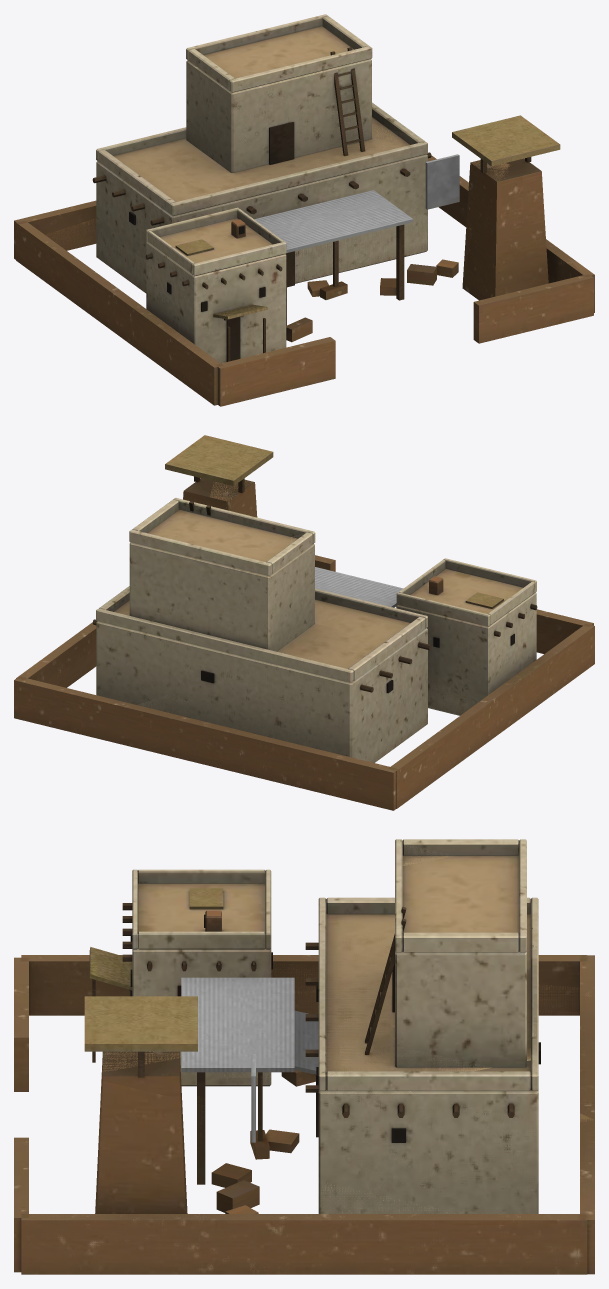
File: civic-bronze-f05076f5.glb
3 renders of one model, top to bottom at view 1: azimuth 30°, elevation 25°; view 2: azimuth 150°, elevation 25°; view 3: azimuth 270°, elevation 25°, orthographic. The views are drawn at different scales.
Parts seen in each view (by area): view 1: LOD0, LOD0.001, LOD0.002; view 2: LOD0, LOD0.001, LOD0.002; view 3: LOD0, LOD0.001, LOD0.002.
Part boxes in pixels (left/top/right/bottom): LOD0: left=14, top=14, right=594, bottom=406; LOD0.001: left=15, top=65, right=590, bottom=342; LOD0.002: left=14, top=212, right=593, bottom=404; LOD0: left=14, top=435, right=594, bottom=810; LOD0.001: left=14, top=451, right=409, bottom=810; LOD0.002: left=97, top=624, right=594, bottom=810; LOD0: left=14, top=839, right=594, bottom=1274; LOD0.001: left=21, top=839, right=594, bottom=1274; LOD0.002: left=21, top=955, right=593, bottom=1274.
Size of what is drawn, in the model's own units: 1.89 by 0.92 by 1.74.
2 materials, 2 textured.
